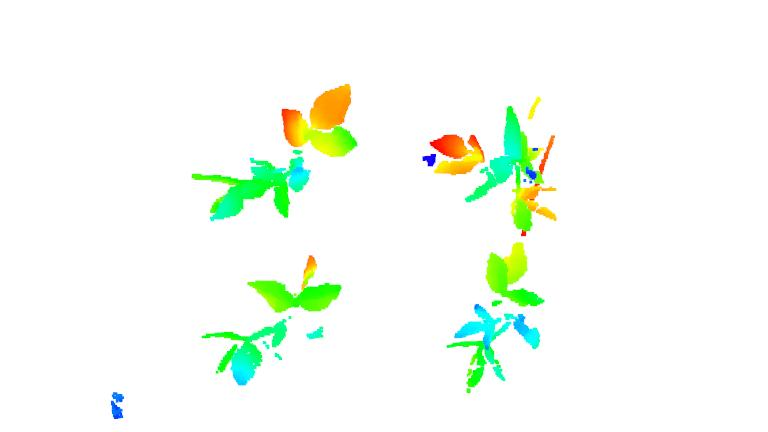mungbean: (186, 81, 367, 227), (197, 249, 349, 390), (440, 237, 564, 397), (422, 98, 563, 235)
